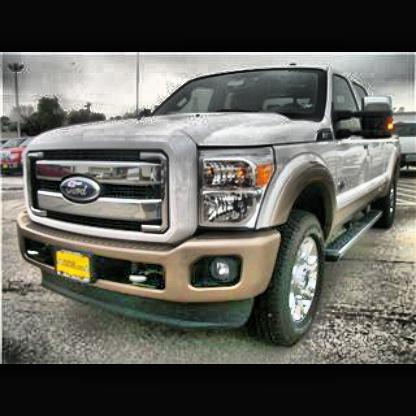Ford F-450 Super Duty Crew Cab 2012: (19, 68, 402, 342)
